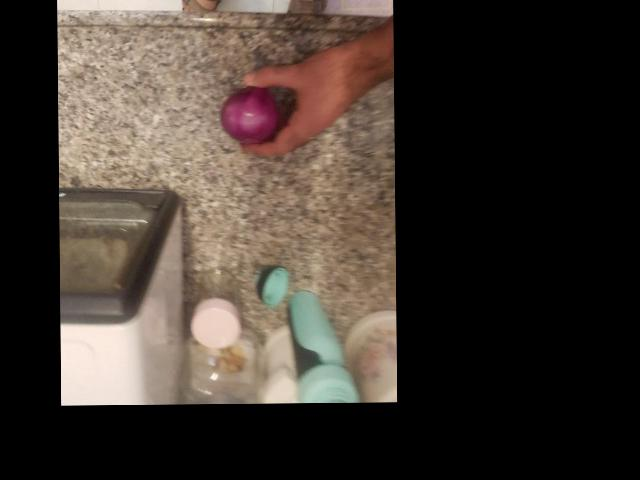onion: (78, 183, 146, 243)
